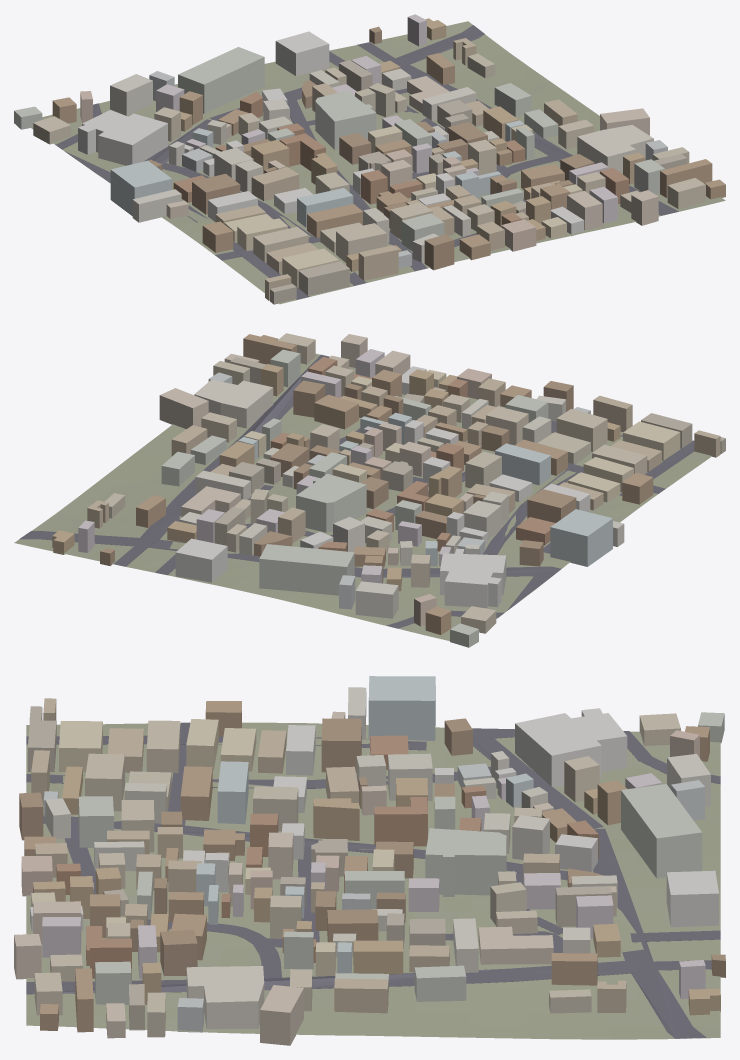
Rendered from chunk_10_4.glb.
3 views of the same model, one above another, from view 1: azimuth 30°, elevation 25°; view 2: azimuth 150°, elevation 25°; view 3: azimuth 270°, elevation 25° (orthographic). The views are drawn at different scales.
Parts seen in each view (by area): view 1: geometry_190, geometry_23, geometry_3, geometry_69, geometry_0, geometry_26, geometry_2, geometry_29, geometry_139, geometry_146, geometry_144, geometry_17 (+76 smaller); view 2: geometry_190, geometry_3, geometry_23, geometry_69, geometry_26, geometry_0, geometry_203, geometry_2, geometry_54, geometry_10, geometry_29, geometry_146 (+75 smaller); view 3: geometry_190, geometry_23, geometry_3, geometry_69, geometry_0, geometry_26, geometry_203, geometry_2, geometry_16, geometry_10, geometry_38, geometry_202 (+117 smaller).
Boxes of the visible parts, x1,y1,x2,y2 form: geometry_190: (30, 21, 725, 304); geometry_23: (78, 110, 167, 165); geometry_3: (178, 47, 264, 113); geometry_69: (315, 90, 376, 149); geometry_0: (577, 125, 653, 171); geometry_26: (110, 160, 171, 215); geometry_2: (275, 31, 329, 76); geometry_29: (110, 74, 152, 115); geometry_139: (298, 261, 349, 295); geometry_146: (336, 223, 386, 262); geometry_144: (358, 245, 398, 280); geometry_17: (251, 167, 299, 200); geometry_190: (14, 353, 711, 640); geometry_3: (259, 544, 354, 595); geometry_23: (440, 553, 506, 607); geometry_69: (296, 473, 366, 532); geometry_26: (550, 509, 612, 566); geometry_0: (194, 379, 273, 428); geometry_203: (140, 354, 329, 543); geometry_2: (175, 538, 227, 583); geometry_54: (495, 443, 550, 485); geometry_10: (159, 388, 208, 428); geometry_29: (355, 581, 398, 618); geometry_146: (556, 409, 607, 451); geometry_190: (26, 722, 720, 1039); geometry_23: (515, 708, 627, 787); geometry_3: (621, 784, 702, 878); geometry_69: (425, 828, 506, 896); geometry_0: (186, 966, 264, 1028); geometry_26: (368, 676, 435, 741); geometry_203: (26, 960, 641, 994); geometry_2: (666, 870, 718, 927); geometry_16: (478, 926, 553, 964); geometry_10: (260, 985, 303, 1045); geometry_38: (374, 797, 427, 846); geometry_202: (631, 968, 706, 1038).
Bounding box in the file's own units: 270 × 23.28 × 256.
